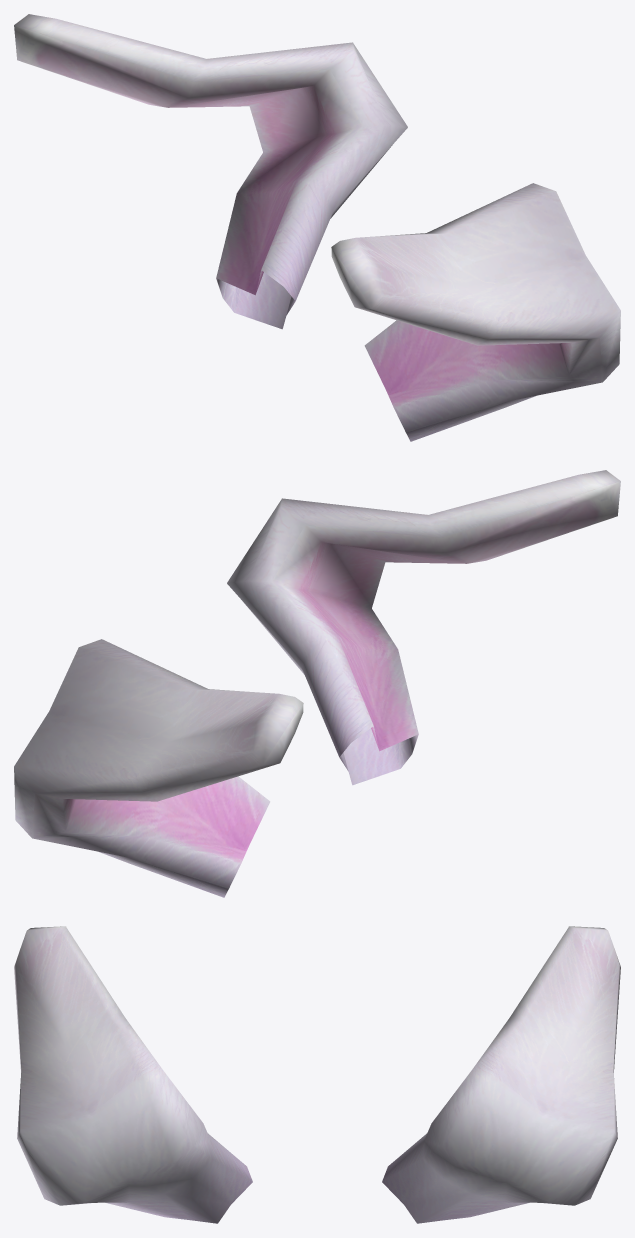
3 views of the same model, one above another, from view 1: azimuth 30°, elevation 25°; view 2: azimuth 150°, elevation 25°; view 3: azimuth 270°, elevation 25° (orthographic). The views are drawn at different scales.
Parts seen in each view (by area): view 1: C1202; view 2: C1202; view 3: C1202.
Boxes of the visible parts, box(x1,y1,x2,y2) form: C1202: box(14, 14, 620, 441); C1202: box(14, 470, 620, 897); C1202: box(14, 926, 620, 1223).
Bounding box in the file's own units: 0.2747 × 0.2379 × 0.5461.
